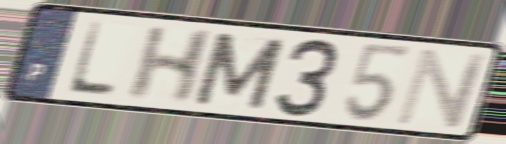3: (270, 34, 342, 120)
5: (340, 41, 415, 126)
H: (122, 24, 220, 106)
L: (63, 18, 120, 100)
M: (189, 30, 290, 113)
N: (391, 46, 493, 129)
